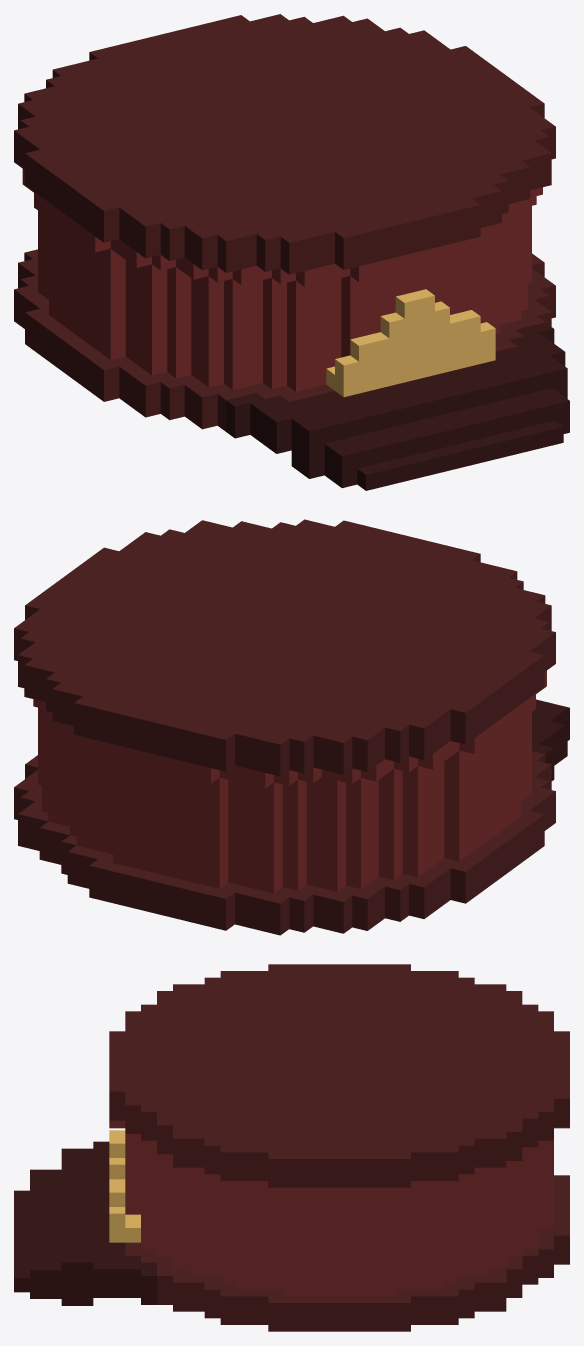
The model's file is gorritadeTren.glb.
3 renders of one model, top to bottom at view 1: azimuth 30°, elevation 25°; view 2: azimuth 150°, elevation 25°; view 3: azimuth 270°, elevation 25°, orthographic. The views are drawn at different scales.
Visible parts, largest first — view 1: Untitled; view 2: Untitled; view 3: Untitled.
Boxes of the visible parts, x1,y1,x2,y2 form: Untitled: (14, 14, 569, 490); Untitled: (14, 519, 569, 935); Untitled: (14, 964, 569, 1331).
Bounding box in the file's own units: 2.9 × 1.3 × 3.5.
1 material, 1 textured.
